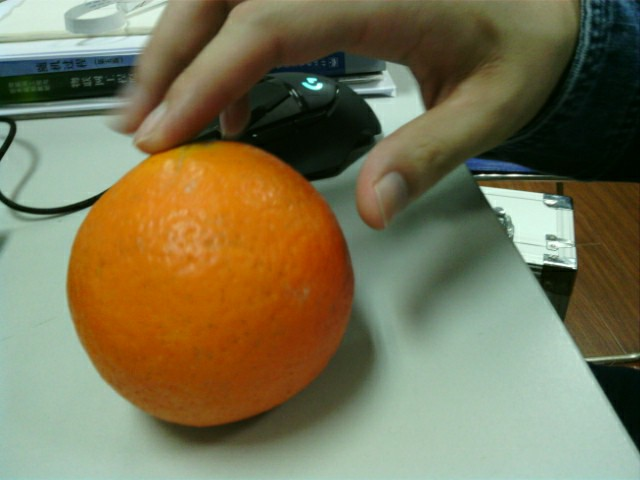normal_orange: (67, 144, 353, 425)
